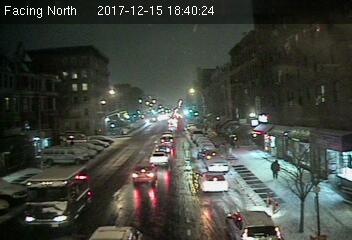car: (227, 209, 282, 240), (197, 172, 228, 192), (131, 163, 157, 184), (205, 157, 230, 171), (149, 152, 169, 165), (154, 143, 172, 154)
pedestrian: (270, 157, 281, 182)
ups: (23, 169, 90, 227)
